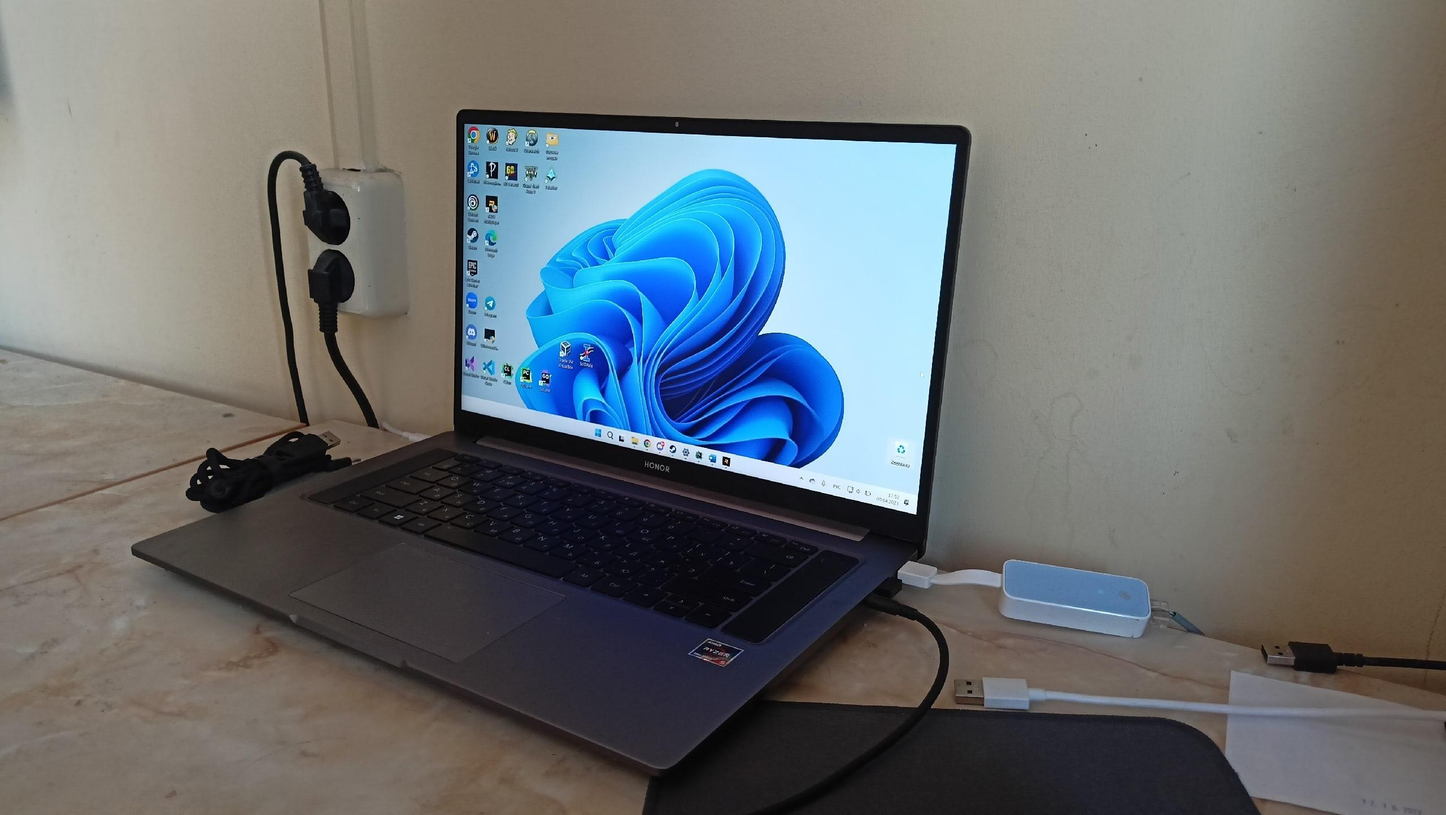monitor: (453, 104, 976, 552)
